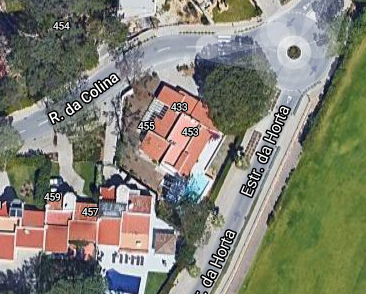pool: (107, 271, 140, 291), (184, 177, 214, 192)
